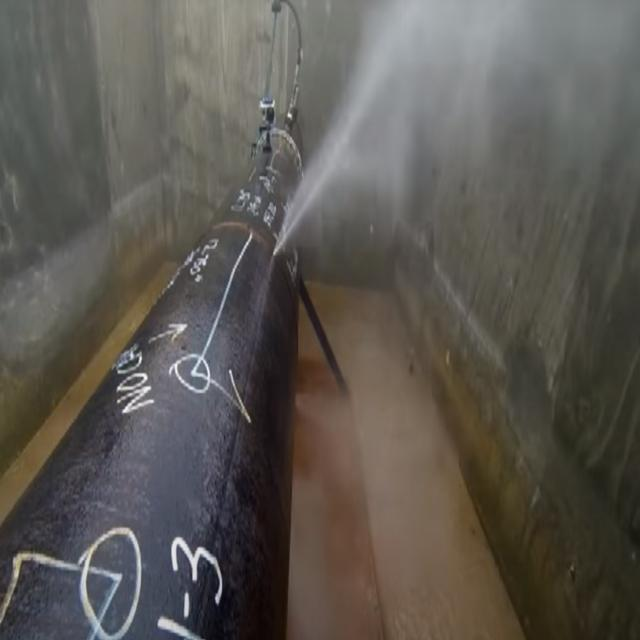leak: (275, 7, 406, 253)
